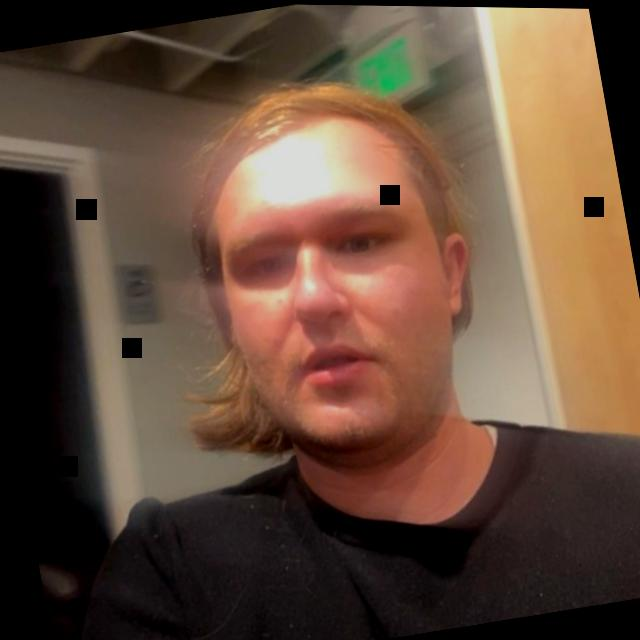NO-Mask: (139, 54, 522, 588)
